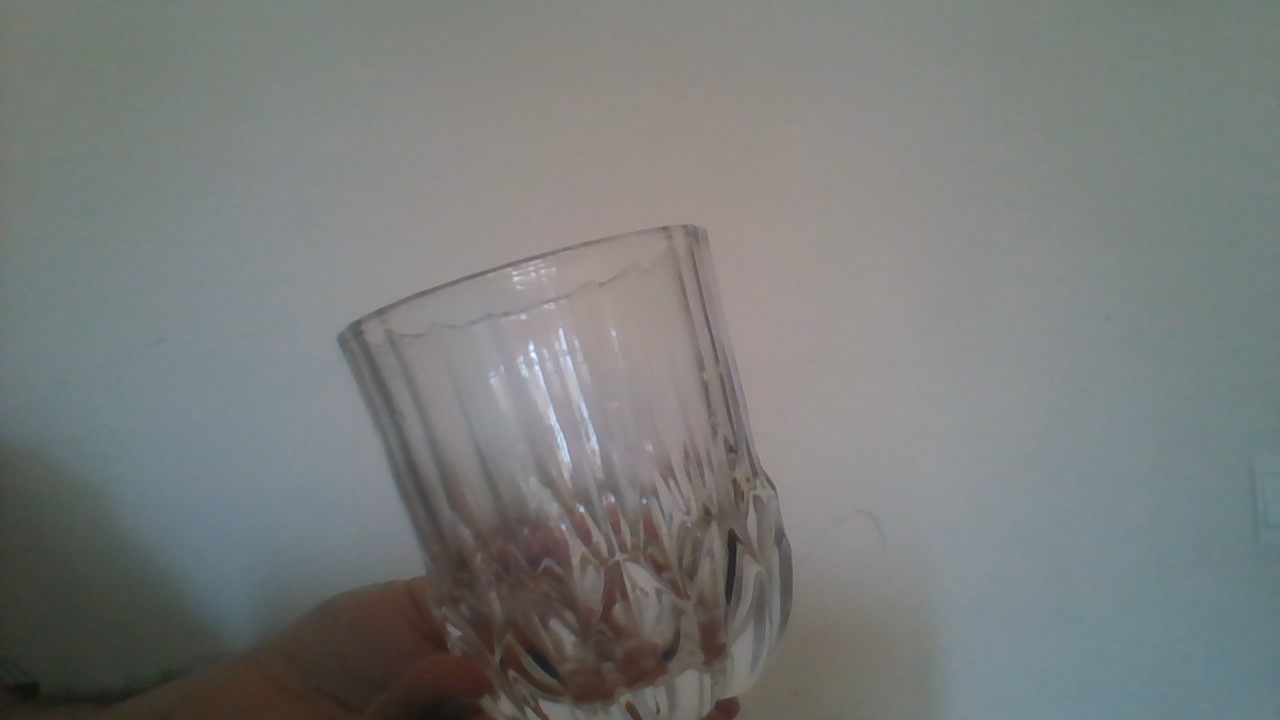glass: (331, 215, 806, 720)
